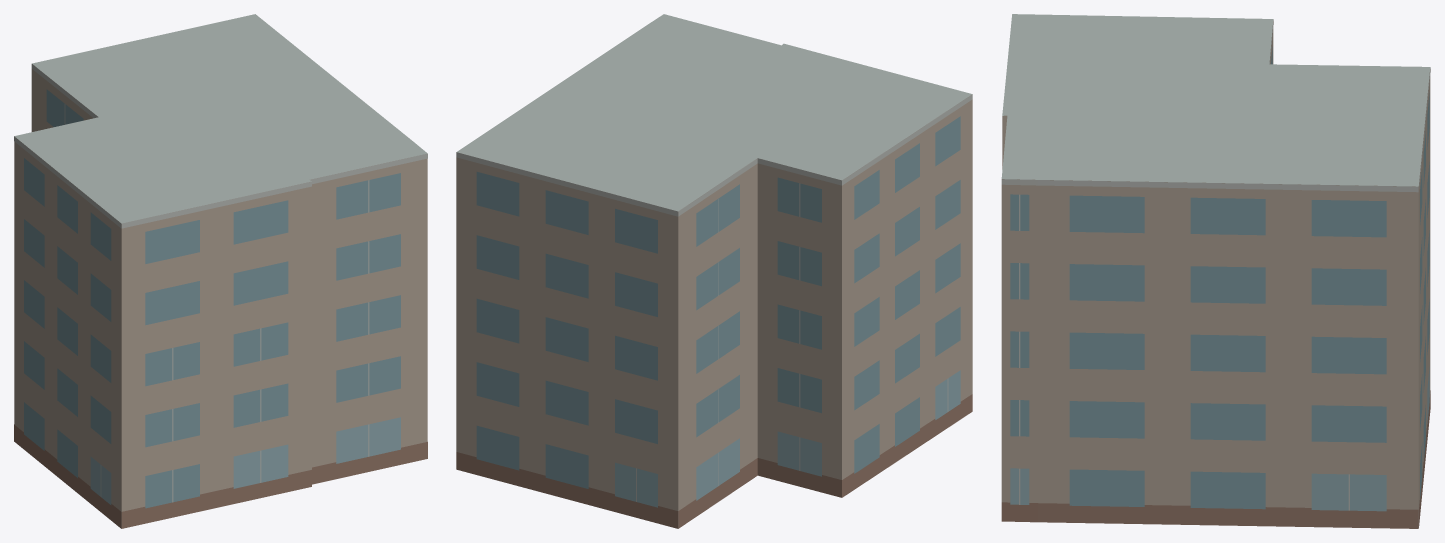
The model's file is survey-upis-32986261.glb.
3 renders of one model, left to right at view 1: azimuth 30°, elevation 25°; view 2: azimuth 150°, elevation 25°; view 3: azimuth 270°, elevation 25°, orthographic. The views are drawn at different scales.
Visible parts, largest first — view 1: survey-upis-32986261.tmp; view 2: survey-upis-32986261.tmp; view 3: survey-upis-32986261.tmp.
Part boxes in pixels (box(x1,y1,x2,y2)): survey-upis-32986261.tmp: box(14, 14, 427, 528); survey-upis-32986261.tmp: box(456, 14, 972, 528); survey-upis-32986261.tmp: box(1001, 14, 1430, 528).
Bounding box in the file's own units: 15.89 × 14.7 × 16.69.
